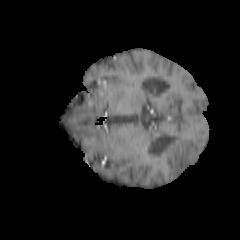glioma: (161, 137, 199, 174)
